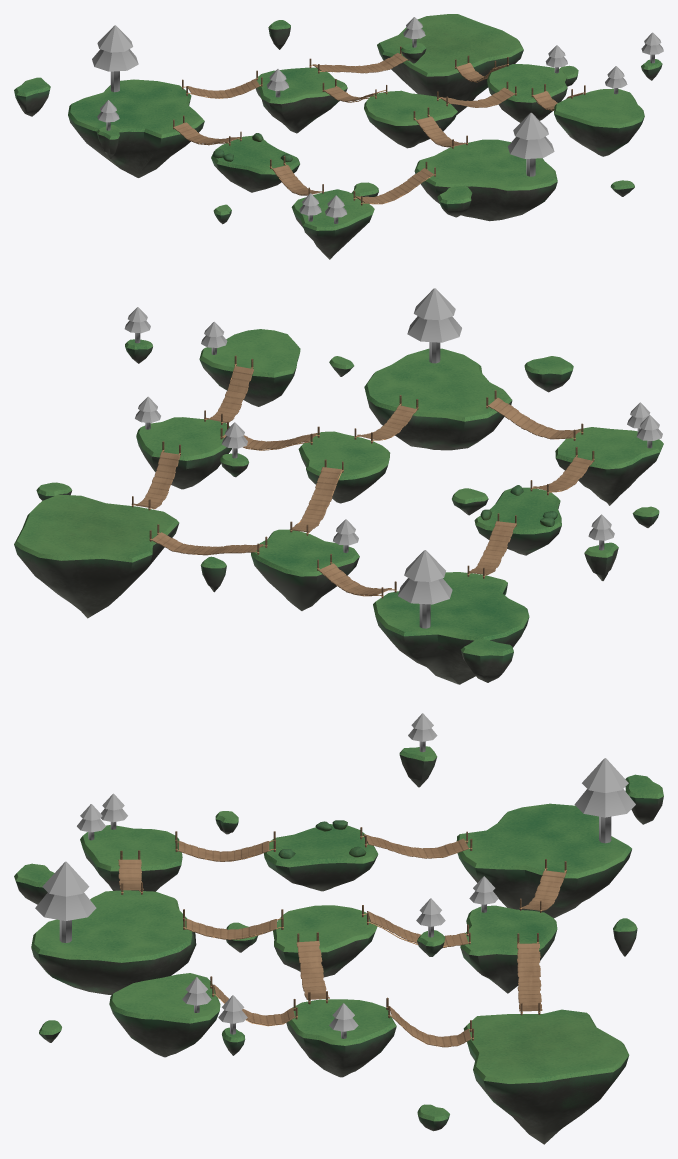
File: ENV_FP_Tex.fbx
3 renders of one model, top to bottom at view 1: azimuth 30°, elevation 25°; view 2: azimuth 150°, elevation 25°; view 3: azimuth 270°, elevation 25°, orthographic. The views are drawn at different scales.
Visible parts, largest first — view 1: playableislands, bridge_path_01 (×6), nonplayableislands, ENV_FP_BigTree1_V01, ENV_FP_BigTree2_V01, bridge_path_04, bridge_path_02, ENV_FP_Tree3_V01, ENV_FP_Tree2_V01, ENV_FP_Tree1_V01, ENV_FP_Tree5_V01, ENV_FP_Tree6_V01; view 2: playableislands, bridge_path_01 (×7), nonplayableislands, bridge_path_02 (×2), ENV_FP_BigTree1_V01, ENV_FP_BigTree2_V01, bridge_path_04; view 3: playableislands, bridge_path_01 (×7), nonplayableislands, ENV_FP_BigTree1_V01, ENV_FP_BigTree2_V01, bridge_path_04, bridge_path_02 (×2).
Boxes of the visible parts, x1=… form: playableislands: x1=14, y1=14, x2=644, y2=259; bridge_path_01 (×6): x1=173, y1=78, x2=514, y2=203; nonplayableislands: x1=96, y1=20, x2=662, y2=224; ENV_FP_BigTree1_V01: x1=92, y1=25, x2=138, y2=92; ENV_FP_BigTree2_V01: x1=507, y1=112, x2=554, y2=176; bridge_path_04: x1=312, y1=53, x2=407, y2=73; bridge_path_02: x1=456, y1=63, x2=506, y2=81; ENV_FP_Tree3_V01: x1=403, y1=17, x2=425, y2=47; ENV_FP_Tree2_V01: x1=641, y1=32, x2=663, y2=63; ENV_FP_Tree1_V01: x1=97, y1=100, x2=119, y2=130; ENV_FP_Tree5_V01: x1=325, y1=195, x2=347, y2=223; ENV_FP_Tree6_V01: x1=267, y1=69, x2=288, y2=97; playableislands: x1=14, y1=329, x2=663, y2=684; bridge_path_01 (×7): x1=222, y1=397, x2=593, y2=595; nonplayableislands: x1=36, y1=339, x2=659, y2=592; bridge_path_02 (×2): x1=134, y1=366, x2=253, y2=508; ENV_FP_BigTree1_V01: x1=398, y1=550, x2=452, y2=628; ENV_FP_BigTree2_V01: x1=407, y1=288, x2=461, y2=363; bridge_path_04: x1=151, y1=532, x2=263, y2=555; playableislands: x1=14, y1=774, x2=663, y2=1144; bridge_path_01 (×7): x1=118, y1=834, x2=565, y2=999; nonplayableislands: x1=39, y1=746, x2=637, y2=1131; ENV_FP_BigTree1_V01: x1=574, y1=758, x2=635, y2=843; ENV_FP_BigTree2_V01: x1=35, y1=861, x2=96, y2=942; bridge_path_04: x1=517, y1=943, x2=542, y2=1011; bridge_path_02 (×2): x1=214, y1=984, x2=471, y2=1047.
Bounding box in the file's own units: 97.67 × 32.32 × 88.23.
